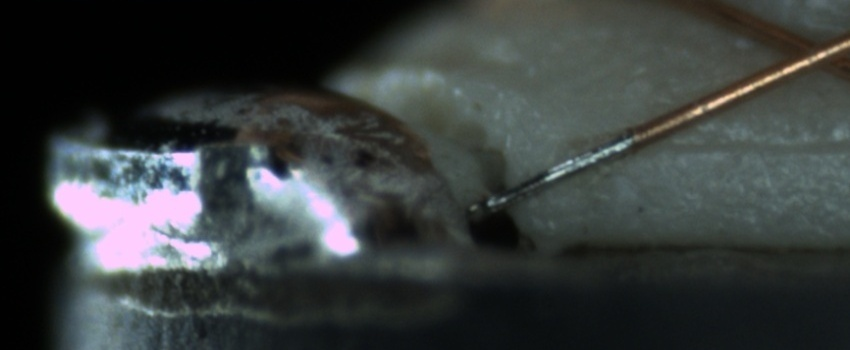CL: (755, 18, 847, 83)
DL: (636, 111, 850, 181)
TS: (468, 132, 635, 218)
